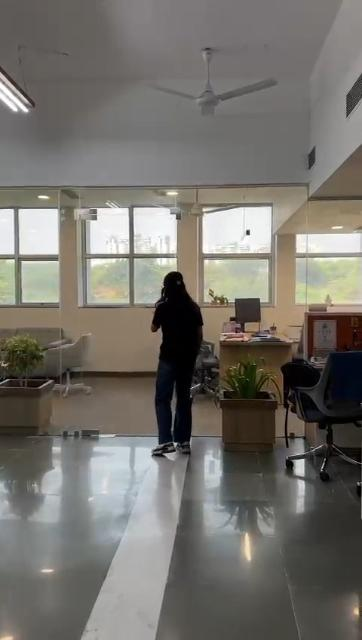floor: (155, 484, 360, 640), (0, 440, 148, 640)
moving-obj: (132, 256, 218, 458)
object: (287, 339, 362, 473), (207, 362, 283, 468), (0, 326, 58, 429), (41, 322, 103, 400), (228, 284, 270, 336)
wall: (89, 309, 150, 369), (276, 200, 298, 328), (57, 217, 81, 321), (179, 216, 200, 292), (0, 307, 66, 323)
